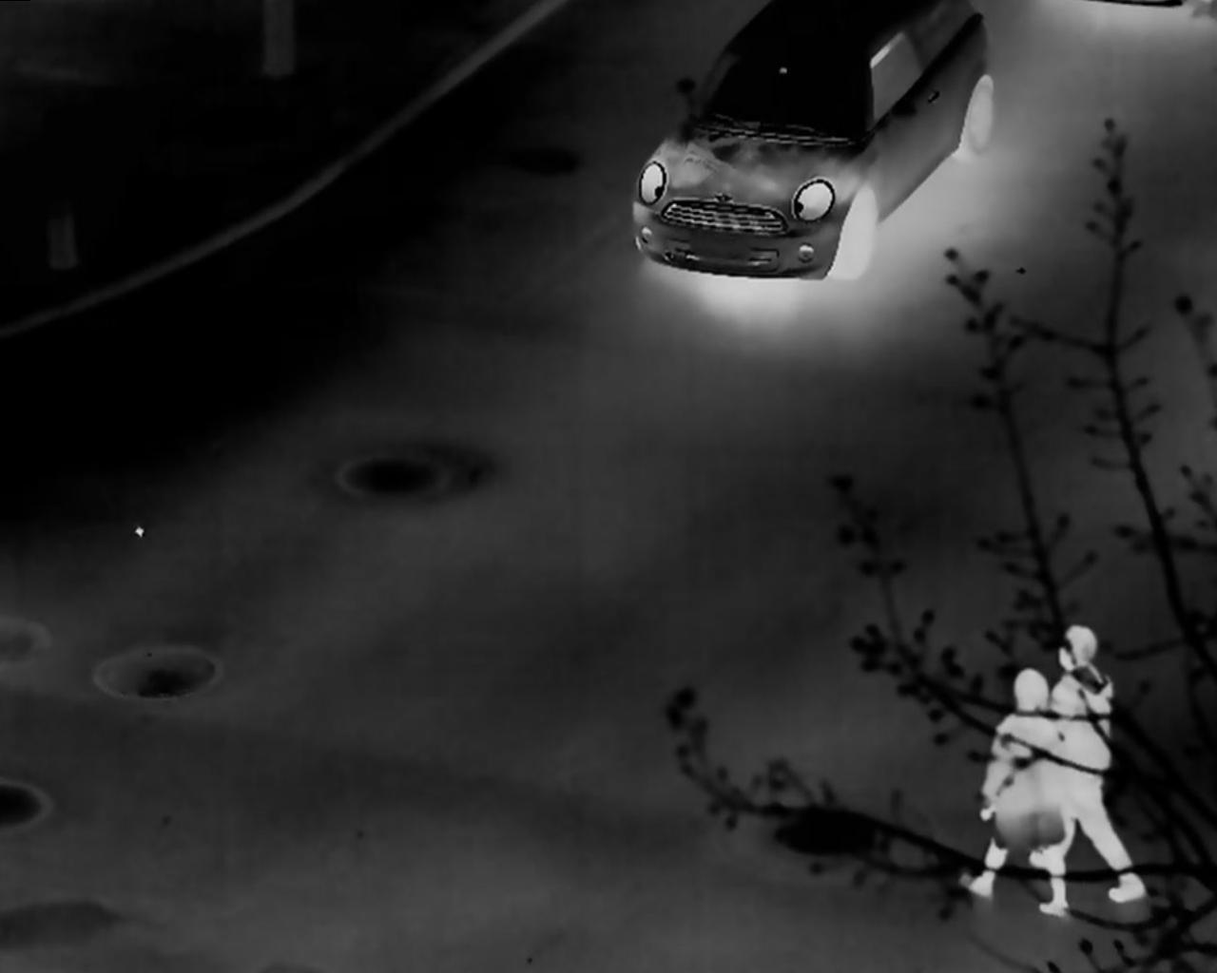person: (1032, 618, 1144, 908), (971, 670, 1068, 922)
